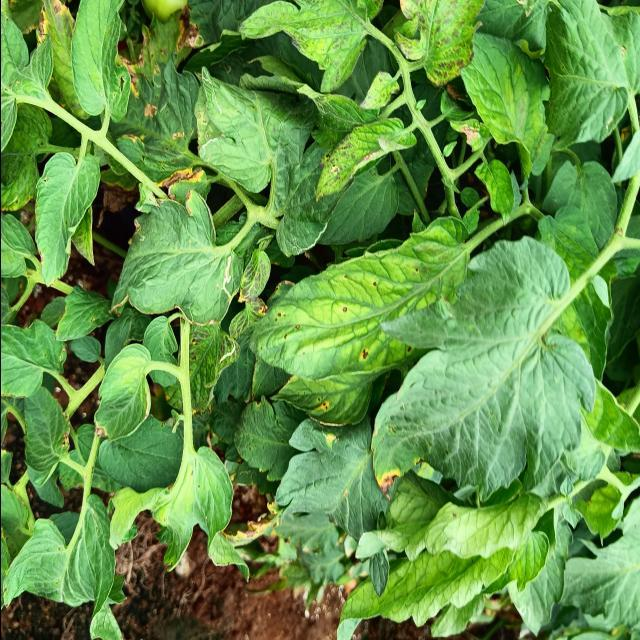Tomato mosaic virus leaf: (247, 240, 430, 380), (266, 376, 374, 430)
